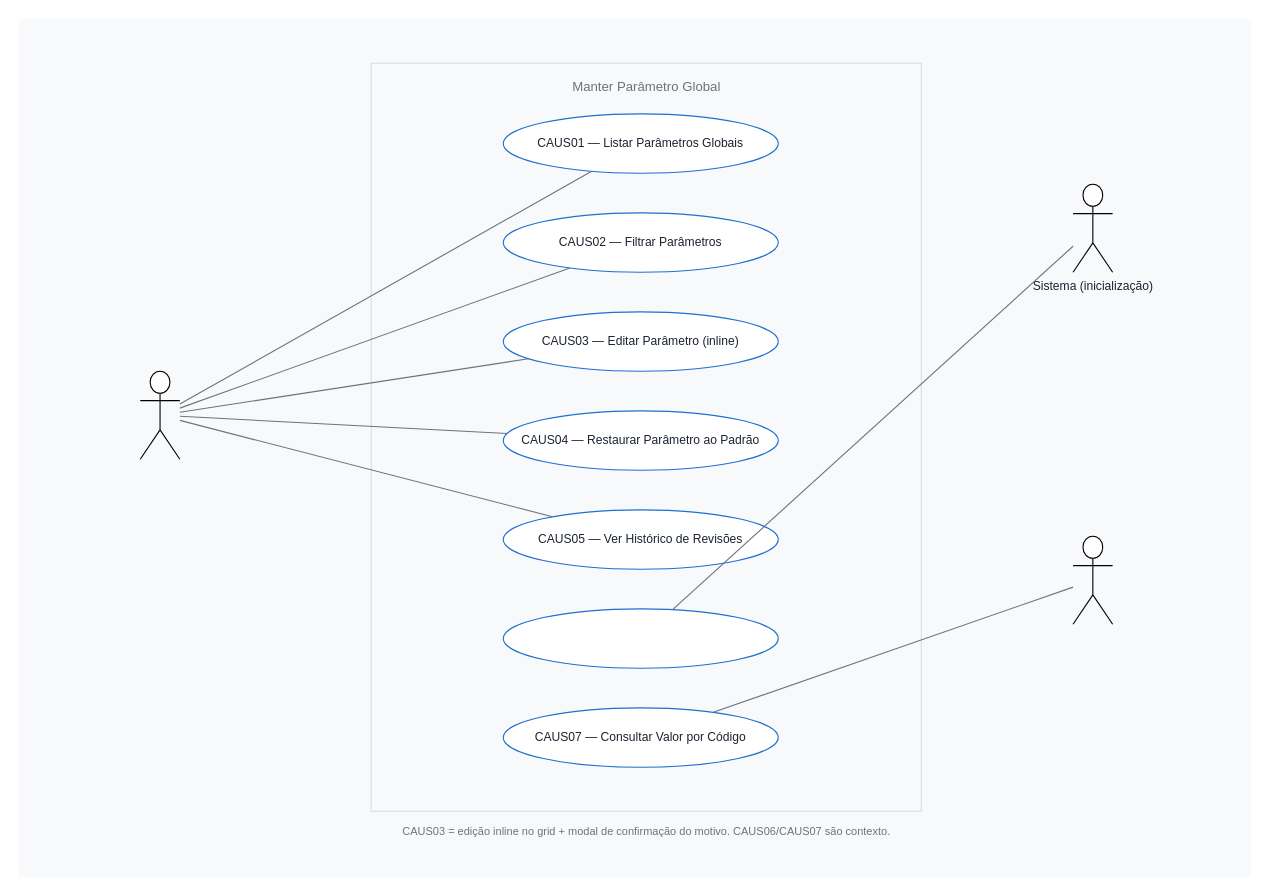
The diagram is 1269 pixels wide and 895 high, and some of its shapes have lost their labels. Each missing label, with the centre of its shape:
"ADMIN (PERF01)" goes at [159,414].
"CAUS06 — Sincronizar o Catálogo" goes at [640,638].
"Demais módulos" goes at [1092,579].
